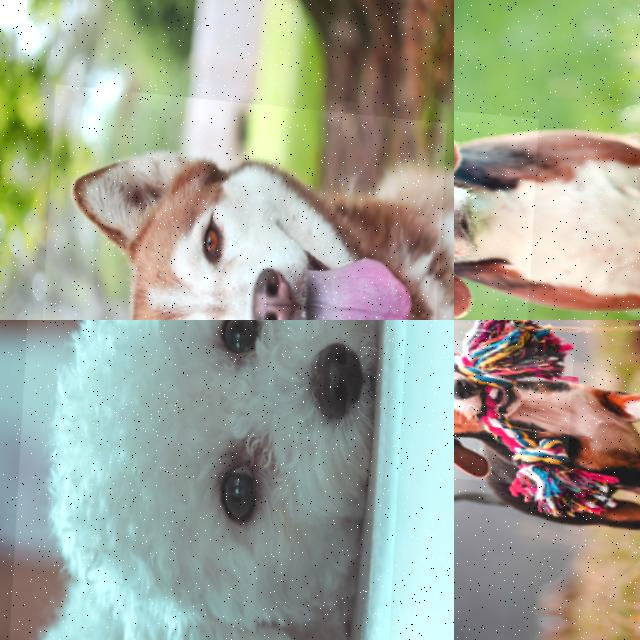beagle: (454, 84, 544, 320), (454, 327, 575, 494)
husky: (2, 77, 454, 320)
poodle: (0, 320, 438, 640)
